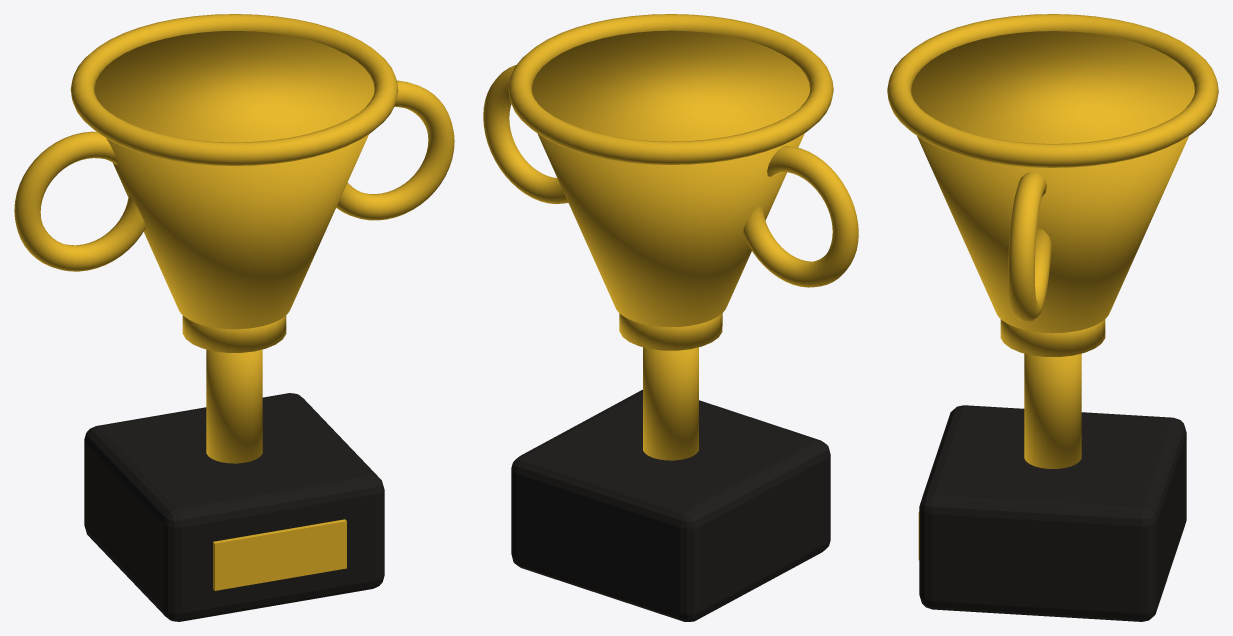
The model's file is decor_trophy.glb.
The picture shows the model from 3 angles, left to right: view 1: azimuth 30°, elevation 25°; view 2: azimuth 150°, elevation 25°; view 3: azimuth 270°, elevation 25°; orthographic projection.
Parts seen in each view (by area): view 1: decor_trophy; view 2: decor_trophy; view 3: decor_trophy.
Boxes of the visible parts, x1,y1,x2,y2 form: decor_trophy: (14,14,454,621); decor_trophy: (483,14,858,621); decor_trophy: (887,14,1218,621).
Bounding box in the file's own units: 0.0986 × 0.1125 × 0.069.
